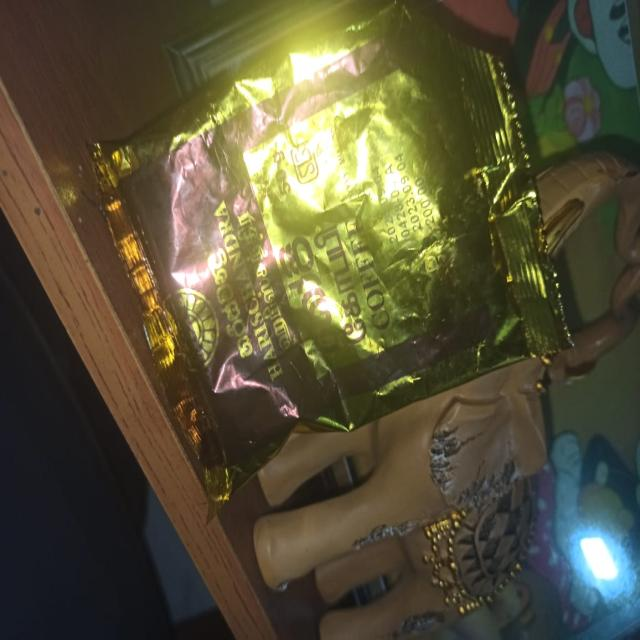Harischandra Coffee: (140, 50, 498, 495)
